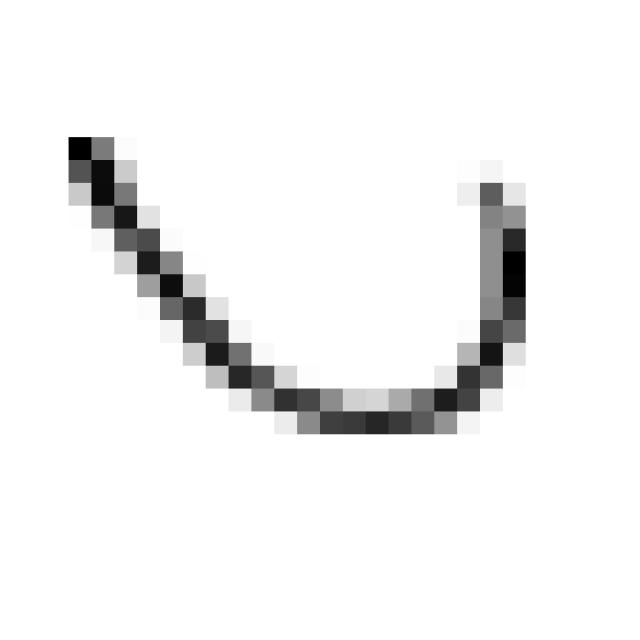7 -seven-: (57, 112, 549, 454)
